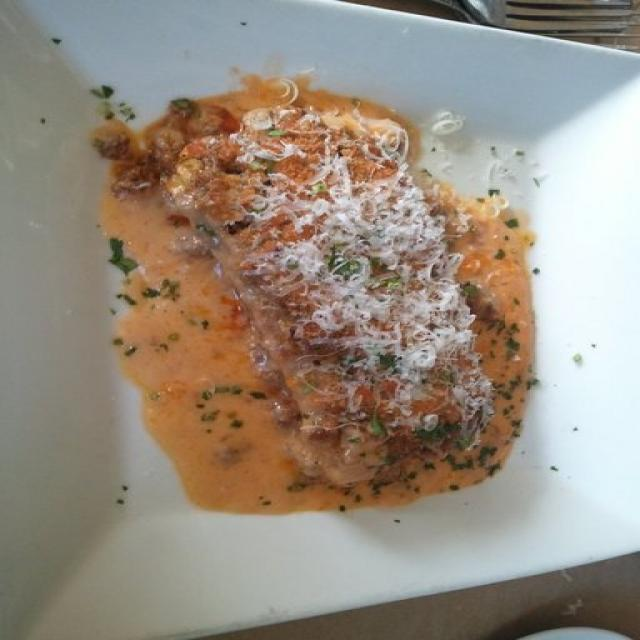Lasagna: (160, 112, 555, 493)
